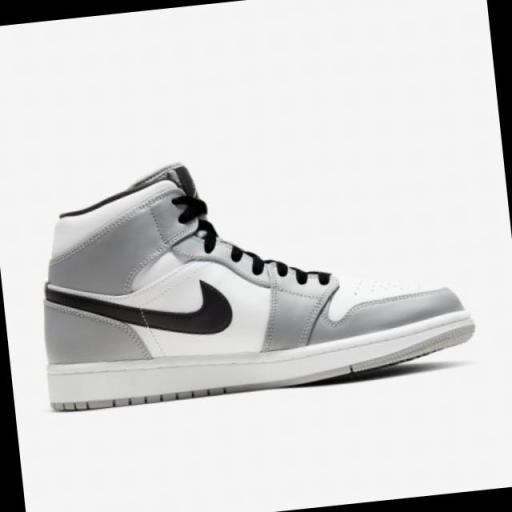Nike: (30, 258, 236, 356)
